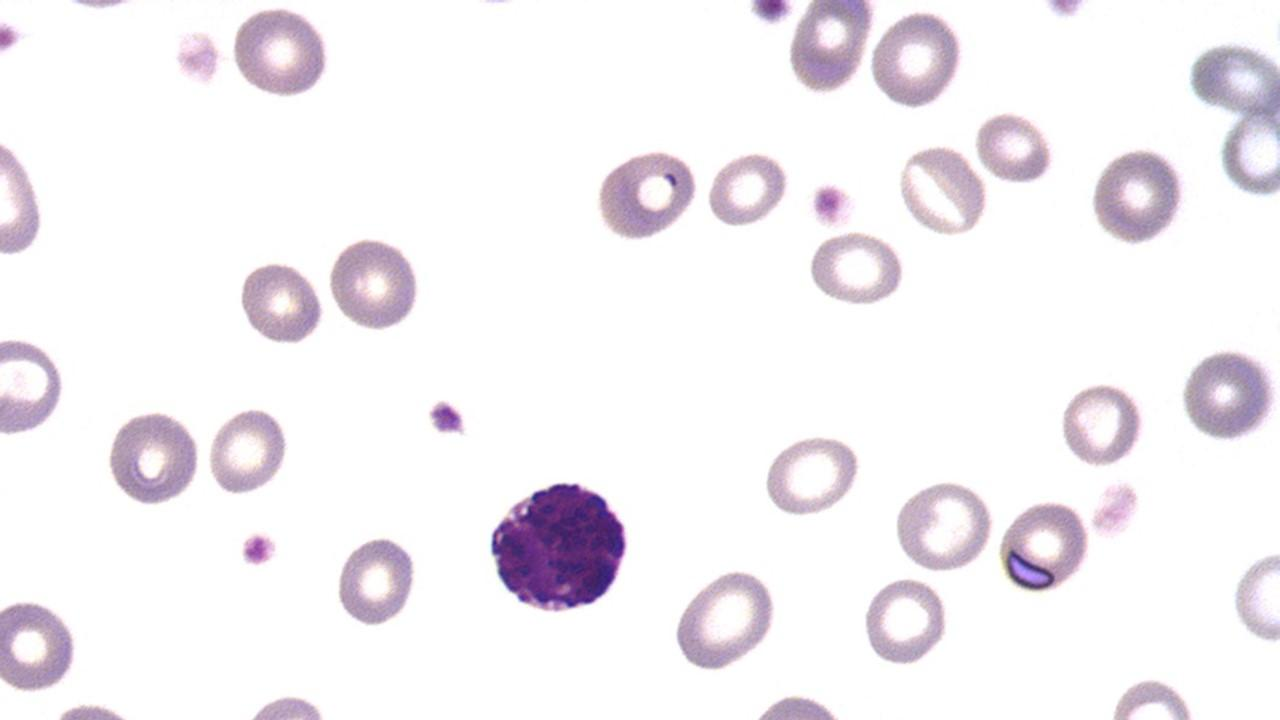Platelets: (806, 179, 856, 231), (423, 394, 468, 439), (744, 2, 794, 28), (1031, 1, 1095, 21)
RBC: (668, 565, 782, 675), (593, 144, 701, 244), (1175, 342, 1279, 445), (1087, 143, 1187, 250), (868, 6, 966, 112), (227, 4, 334, 101), (103, 408, 203, 508), (892, 478, 996, 574), (326, 232, 422, 335), (996, 496, 1094, 592), (760, 430, 864, 520), (895, 140, 989, 239), (785, 1, 876, 98), (804, 227, 908, 309), (334, 530, 418, 630), (860, 576, 951, 668), (1183, 35, 1279, 122), (1, 593, 81, 696), (238, 256, 326, 348), (1057, 379, 1145, 470), (206, 403, 290, 498), (1, 333, 68, 439), (704, 148, 790, 230), (1, 122, 48, 263), (974, 108, 1057, 185), (1217, 99, 1279, 202), (1228, 538, 1280, 652), (240, 690, 332, 719)
WBC: (479, 470, 639, 620)
